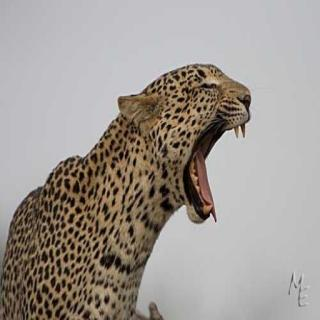Leopard: (0, 55, 264, 320)
